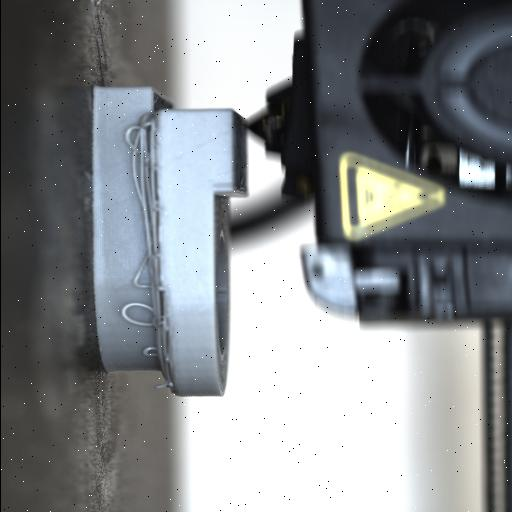layer_shift: (144, 82, 182, 398)
